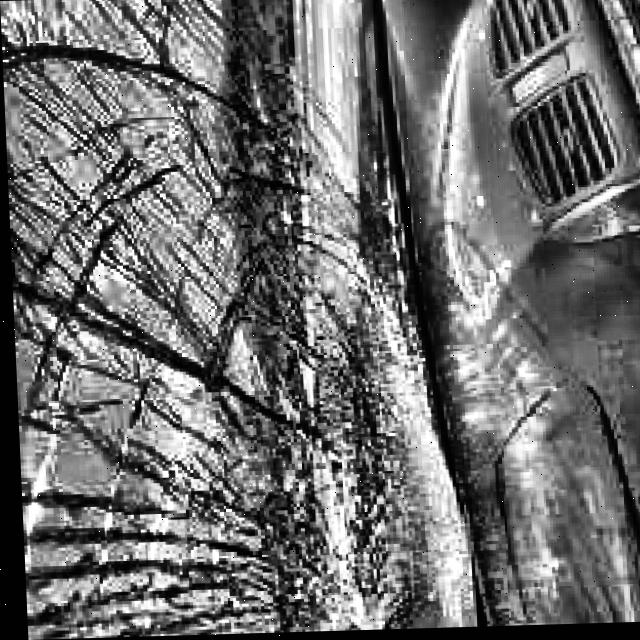glass_shatter: (252, 258, 474, 633)
